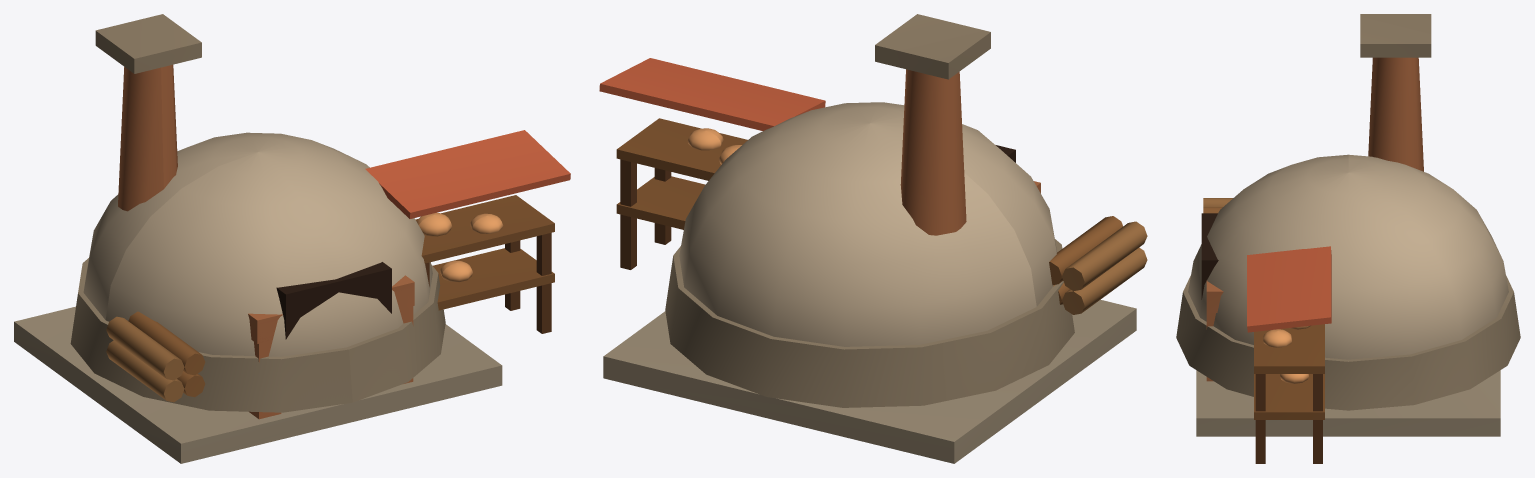
File: bakery.glb
3 views of the same model, side by side, from view 1: azimuth 30°, elevation 25°; view 2: azimuth 150°, elevation 25°; view 3: azimuth 270°, elevation 25° (orthographic). The views are drawn at different scales.
Parts seen in each view (by area): view 1: oven-dome, bakery-floor, oven-base, awning, chimney, shelf-top, chimney-cap, shelf-mid, oven-mouth, log-2, log-0, log-3 (+5 smaller); view 2: oven-dome, oven-base, bakery-floor, chimney, awning, chimney-cap, shelf-top, shelf-mid, log-2, log-0, shelf-leg-2, log-3 (+1 smaller); view 3: oven-dome, oven-base, bakery-floor, awning, chimney, chimney-cap, shelf-top, shelf-mid, shelf-leg-4, oven-mouth, shelf-leg-2, bread-2 (+1 smaller).
Part boxes in pixels (x1,y1,x2,y2): oven-dome: (83,132,432,356); bakery-floor: (14,306,502,463); oven-base: (70,258,445,412); awning: (365,130,570,218); chimney: (118,64,177,211); shelf-top: (415,195,554,263); chimney-cap: (95,14,201,73); shelf-mid: (433,248,554,310); oven-mouth: (276,262,391,339); log-2: (106,316,184,380); log-0: (106,340,184,402); log-3: (128,311,205,375); oven-dome: (679,102,1056,346); oven-base: (665,239,1074,407); bakery-floor: (603,299,1136,463); chimney: (900,69,966,235); awning: (599,58,825,130); chimney-cap: (875,14,990,79); shelf-top: (616,118,747,180); shelf-mid: (616,176,704,229); log-2: (1062,221,1147,291); log-0: (1062,247,1147,314); shelf-leg-2: (620,159,636,269); log-3: (1049,216,1122,285); oven-dome: (1188,154,1508,359); oven-base: (1176,275,1520,410); bakery-floor: (1196,370,1500,436); awning: (1247,246,1331,332); chimney: (1368,57,1423,171); chimney-cap: (1360,14,1431,57); shelf-top: (1254,324,1324,373); shelf-mid: (1254,374,1324,419); shelf-leg-4: (1255,374,1265,463); oven-mouth: (1201,213,1218,299); shelf-leg-2: (1313,374,1322,463); bread-2: (1263,329,1291,347).
Bounding box in the file's own units: 2.69 × 2.25 × 2.04.
